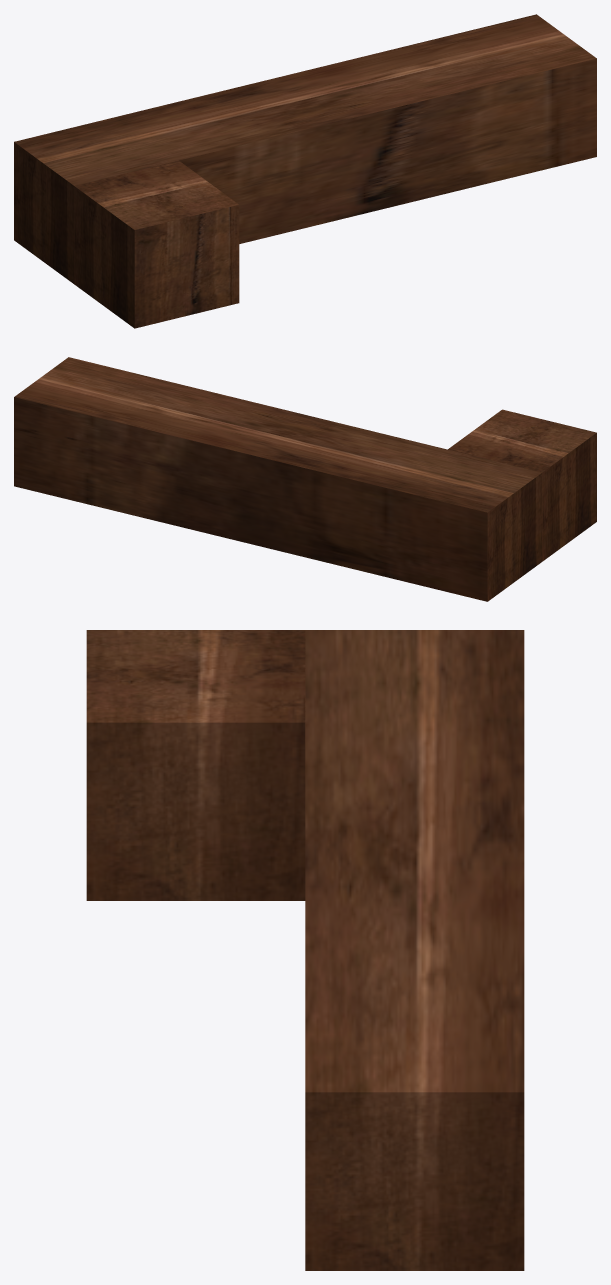
File: bar.obj
3 renders of one model, top to bottom at view 1: azimuth 30°, elevation 25°; view 2: azimuth 150°, elevation 25°; view 3: azimuth 270°, elevation 25°, orthographic. The views are drawn at different scales.
Visible parts, largest first — view 1: Cubo, Cubo.001; view 2: Cubo, Cubo.001; view 3: Cubo, Cubo.001.
Boxes of the visible parts, x1,y1,x2,y2 form: Cubo: [14, 14, 596, 283]; Cubo.001: [74, 160, 239, 328]; Cubo: [14, 357, 542, 601]; Cubo.001: [448, 409, 596, 561]; Cubo: [305, 630, 524, 1270]; Cubo.001: [86, 630, 305, 900].
Bounding box in the file's own units: 50 × 9 × 20.
1 material, 1 textured.
